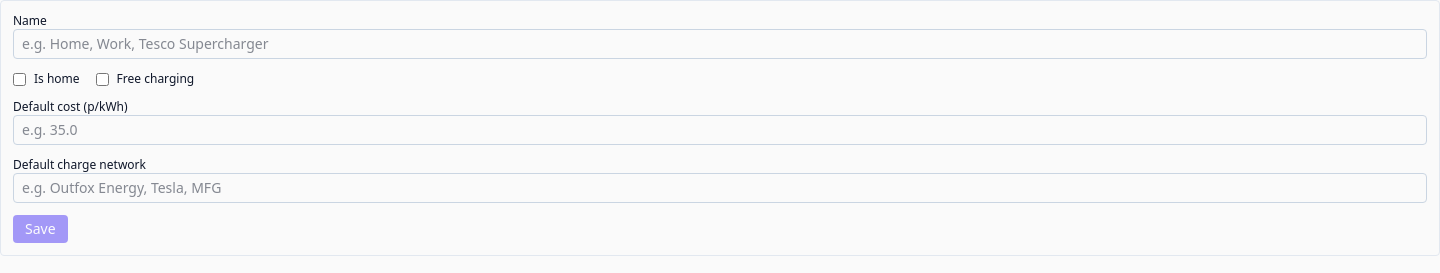
LocationLabelForm › disables the Save button until a name is entered
This screenshot has width=1440, height=273.
Expected: the button "Save" is disabled, [13, 215, 68, 243]
Type "Home" into the field with placeholder "e.g. Home, Work, Tesco Supercharger" at (720, 44), box [13, 29, 1427, 59]
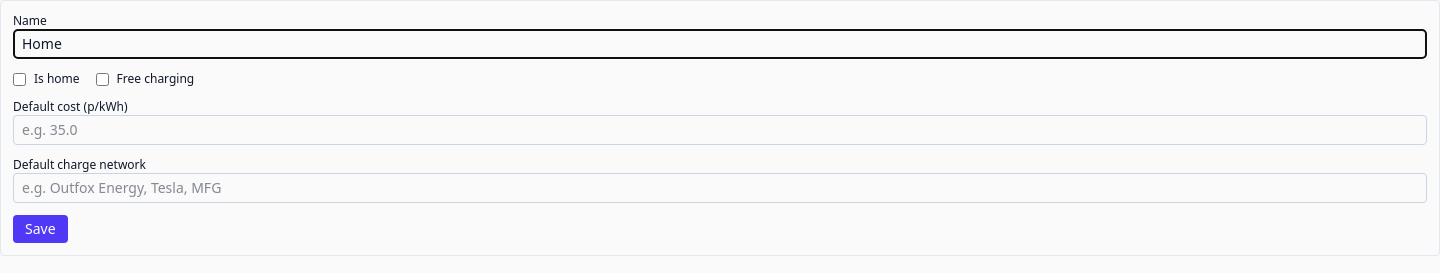
Expected: the button "Save" is enabled, [13, 215, 68, 243]
